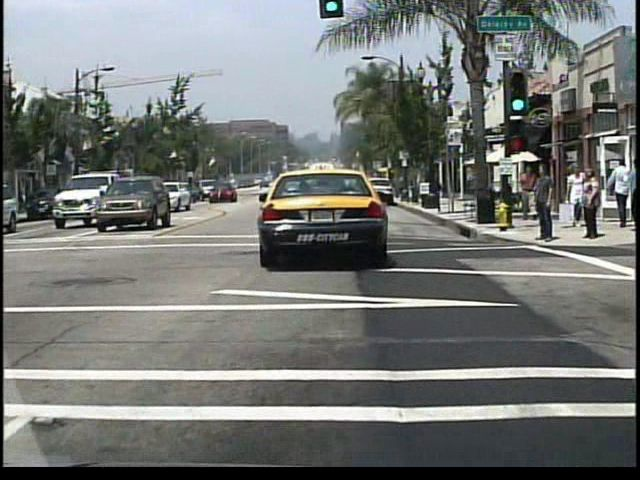person: (535, 162, 556, 243), (582, 168, 603, 242), (563, 162, 584, 227), (519, 167, 539, 220)
